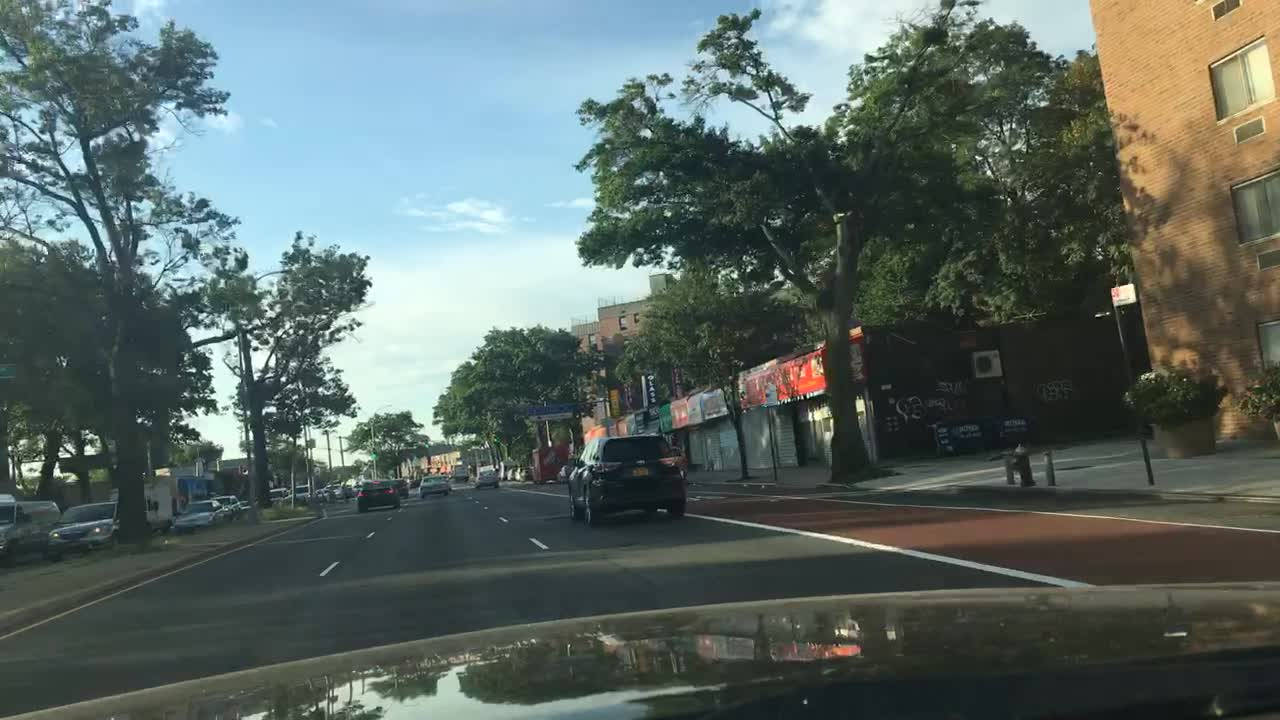car: (568, 433, 689, 527), (46, 500, 119, 557), (0, 492, 61, 553), (173, 498, 224, 536), (357, 478, 401, 514), (418, 473, 450, 499), (473, 463, 500, 489), (210, 494, 239, 516), (288, 484, 312, 503), (390, 478, 410, 498), (268, 486, 288, 505), (515, 465, 532, 483), (325, 483, 343, 500), (314, 487, 332, 503), (497, 461, 511, 481), (352, 483, 364, 497), (238, 499, 252, 511), (506, 466, 516, 482), (343, 483, 353, 499), (408, 477, 421, 489)
traffic light: (372, 445, 378, 461)
traffic sign: (526, 403, 574, 421), (1110, 282, 1136, 306), (763, 384, 777, 406)
